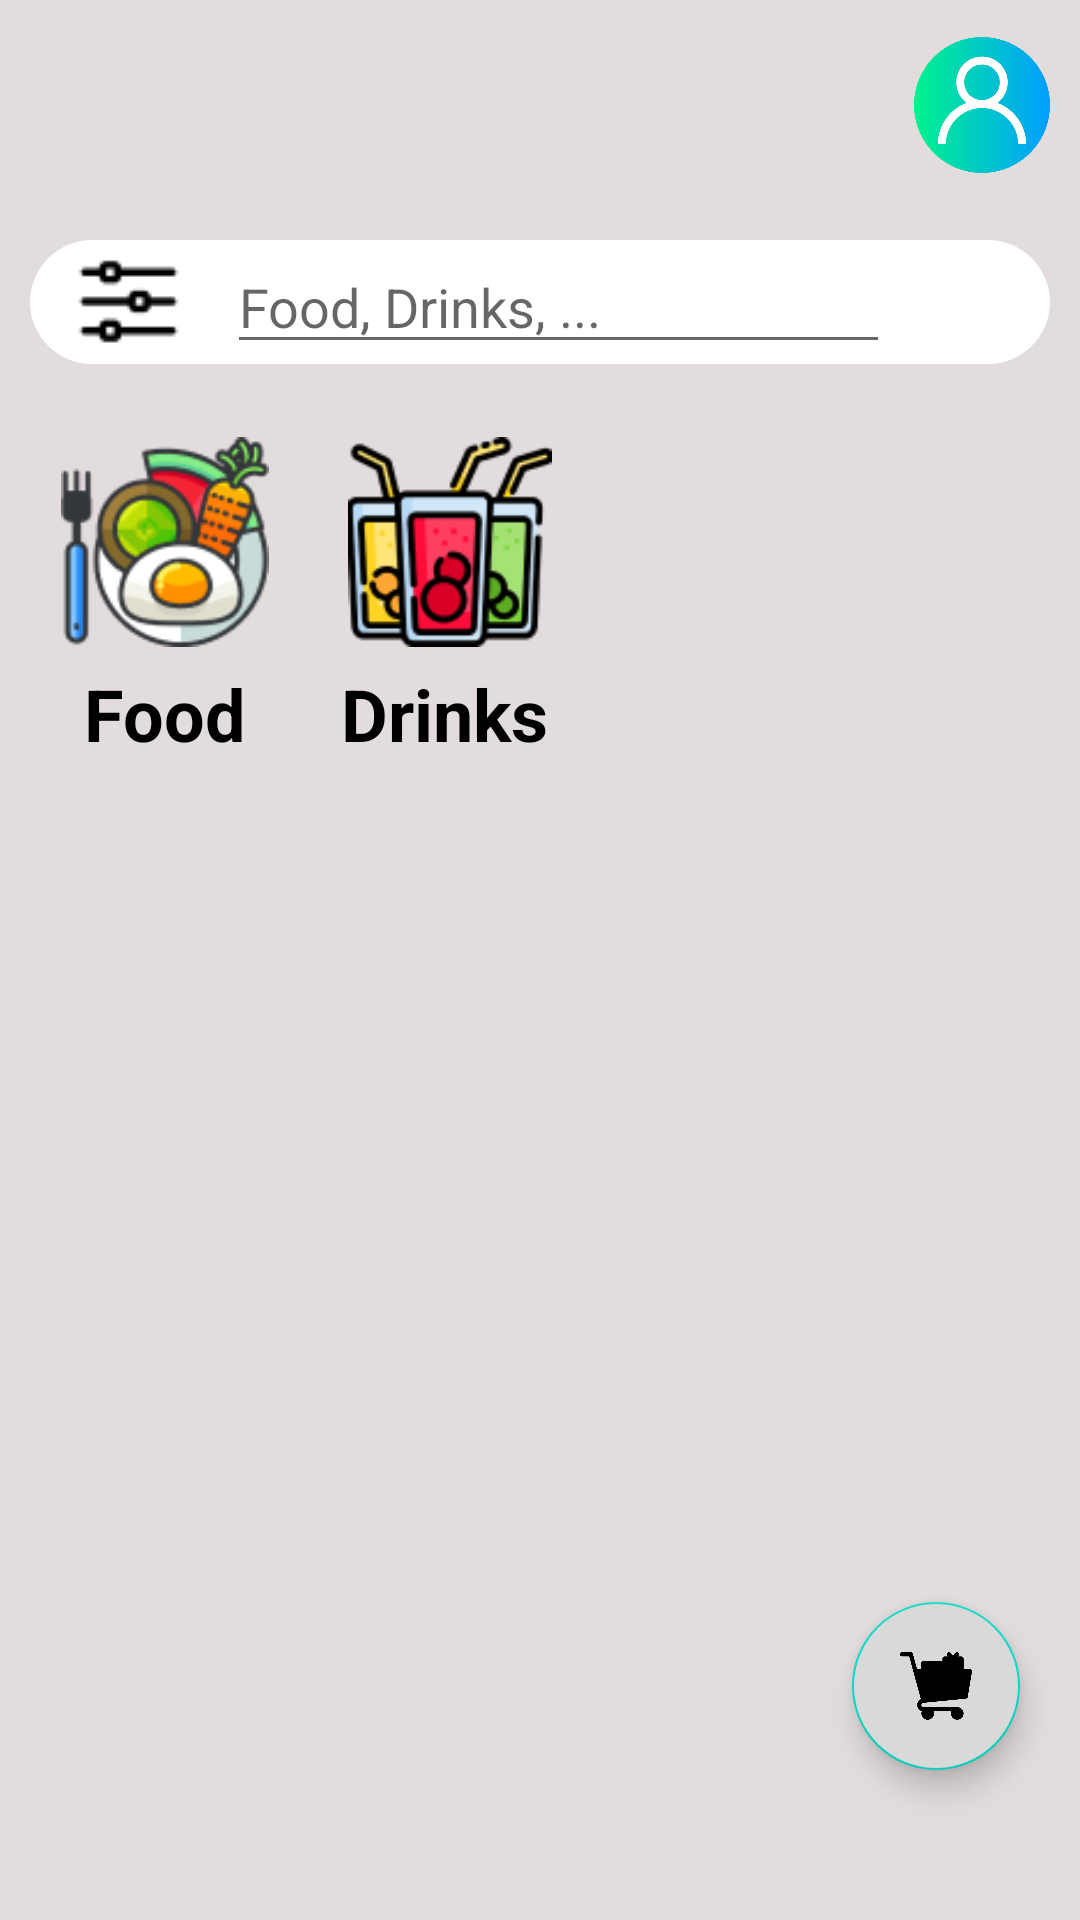

Named icons in this screenshot (1080w x 1920h) and their centers, [x,y]:
cart: [936,1686]
sort: [128,301]
user: [982,105]
